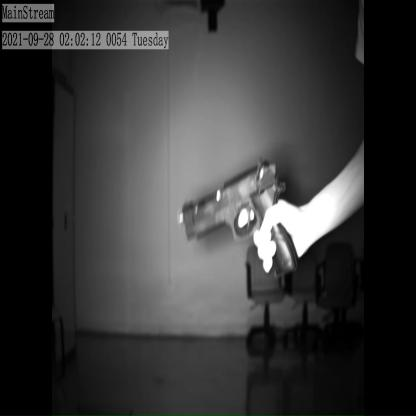weapon: (181, 156, 300, 288)
